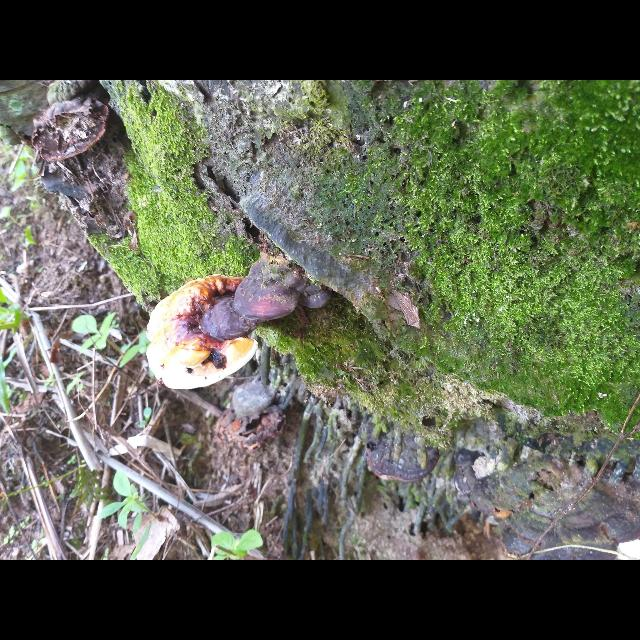ganoderma: (146, 273, 261, 393)
